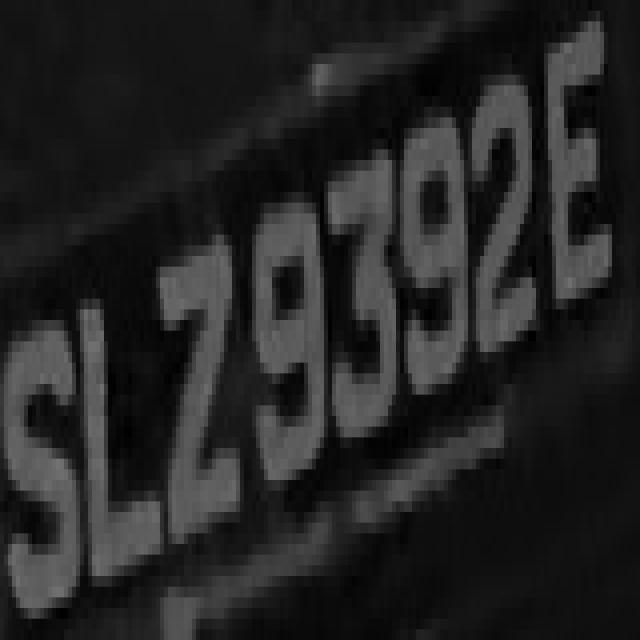2: (464, 53, 548, 363)
3: (316, 160, 412, 437)
9: (244, 181, 336, 512), (392, 117, 476, 427)
E: (544, 32, 616, 341)
L: (88, 245, 160, 555)
S: (8, 266, 88, 640)
Z: (156, 192, 244, 544)
